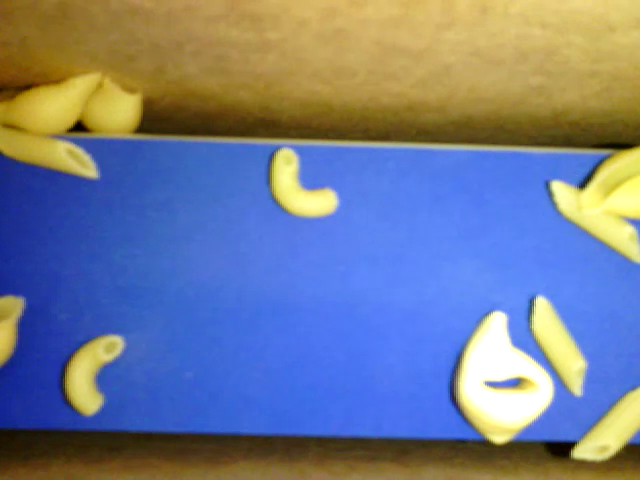elbow: (267, 145, 341, 220), (62, 336, 123, 415)
penne: (547, 178, 639, 263), (529, 293, 585, 400), (567, 387, 639, 460), (1, 129, 100, 179)
shell: (1, 65, 104, 133), (570, 142, 639, 222), (84, 79, 139, 139), (1, 293, 26, 375)
tortellini: (452, 309, 552, 447)
